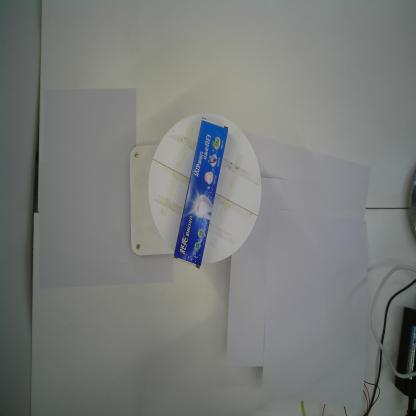Personal Hygiene: (173, 117, 228, 269)
